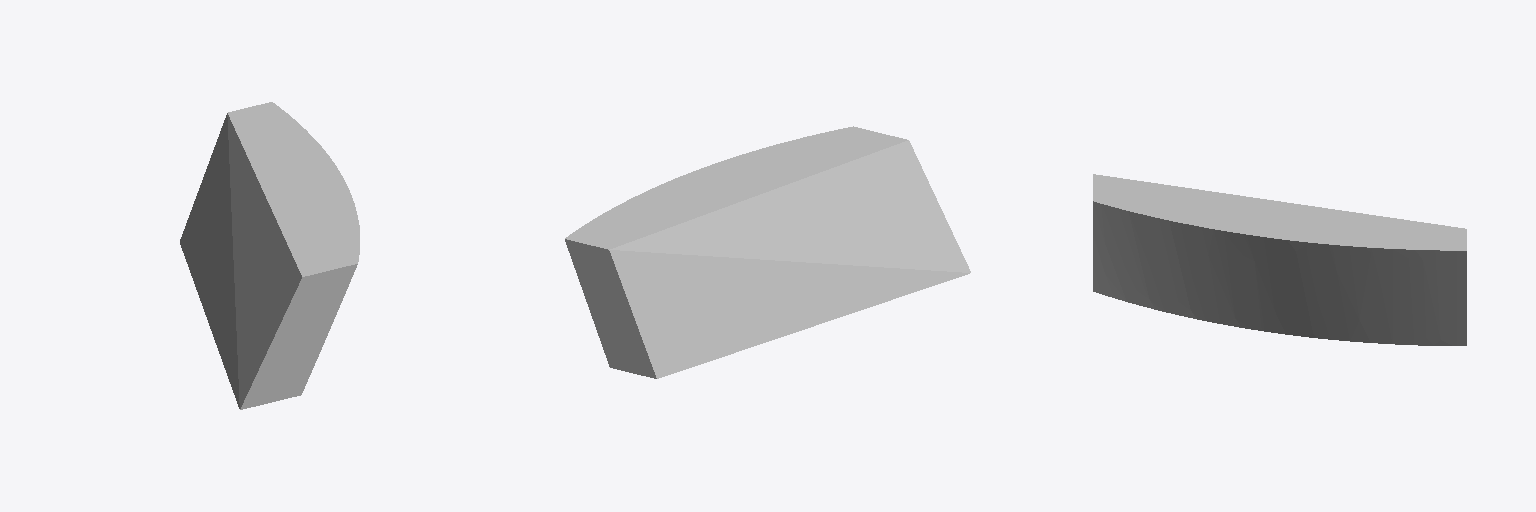
The model's file is skillet_collision_26.obj.
3 renders of one model, left to right at view 1: azimuth 30°, elevation 25°; view 2: azimuth 150°, elevation 25°; view 3: azimuth 270°, elevation 25°, orthographic.
Bounding box in the file's own units: 0.0384 × 0.0197 × 0.0567.